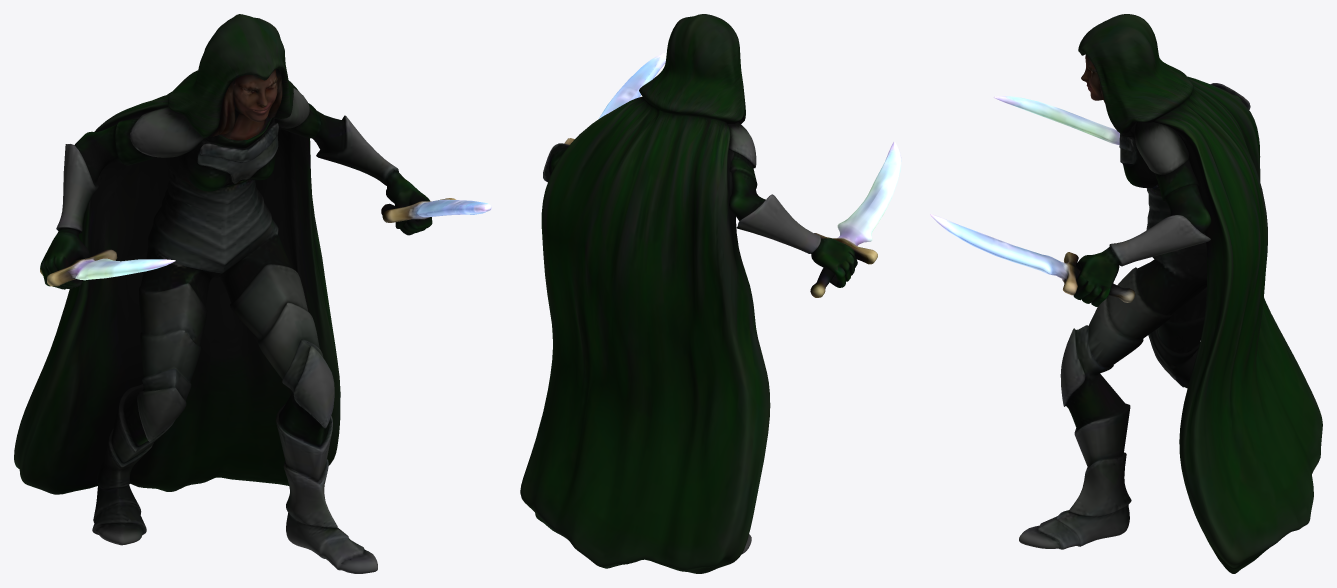
File: MZ4250 - Drow Shadowblade_Alt2.glb
The picture shows the model from 3 angles, left to right: view 1: azimuth 30°, elevation 25°; view 2: azimuth 150°, elevation 25°; view 3: azimuth 270°, elevation 25°; orthographic projection. The views are drawn at different scales.
Visible parts, largest first — view 1: Scimitar.002; view 2: Scimitar.002; view 3: Scimitar.002.
Boxes of the visible parts, bbox=[...] form: Scimitar.002: bbox=[14, 14, 491, 573]; Scimitar.002: bbox=[520, 14, 901, 573]; Scimitar.002: bbox=[930, 14, 1322, 573].
Bounding box in the file's own units: 65.63 × 91.21 × 64.05.
Materials: 1 (1 with a texture image).
